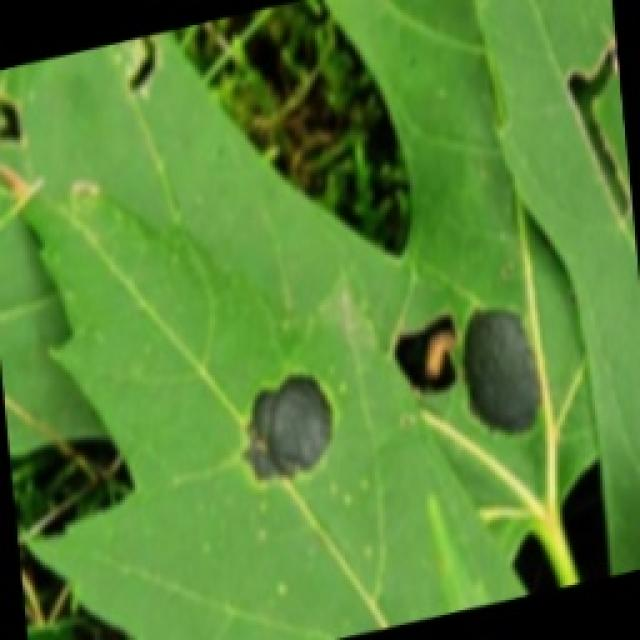Tar_Spot: (228, 319, 584, 481)
